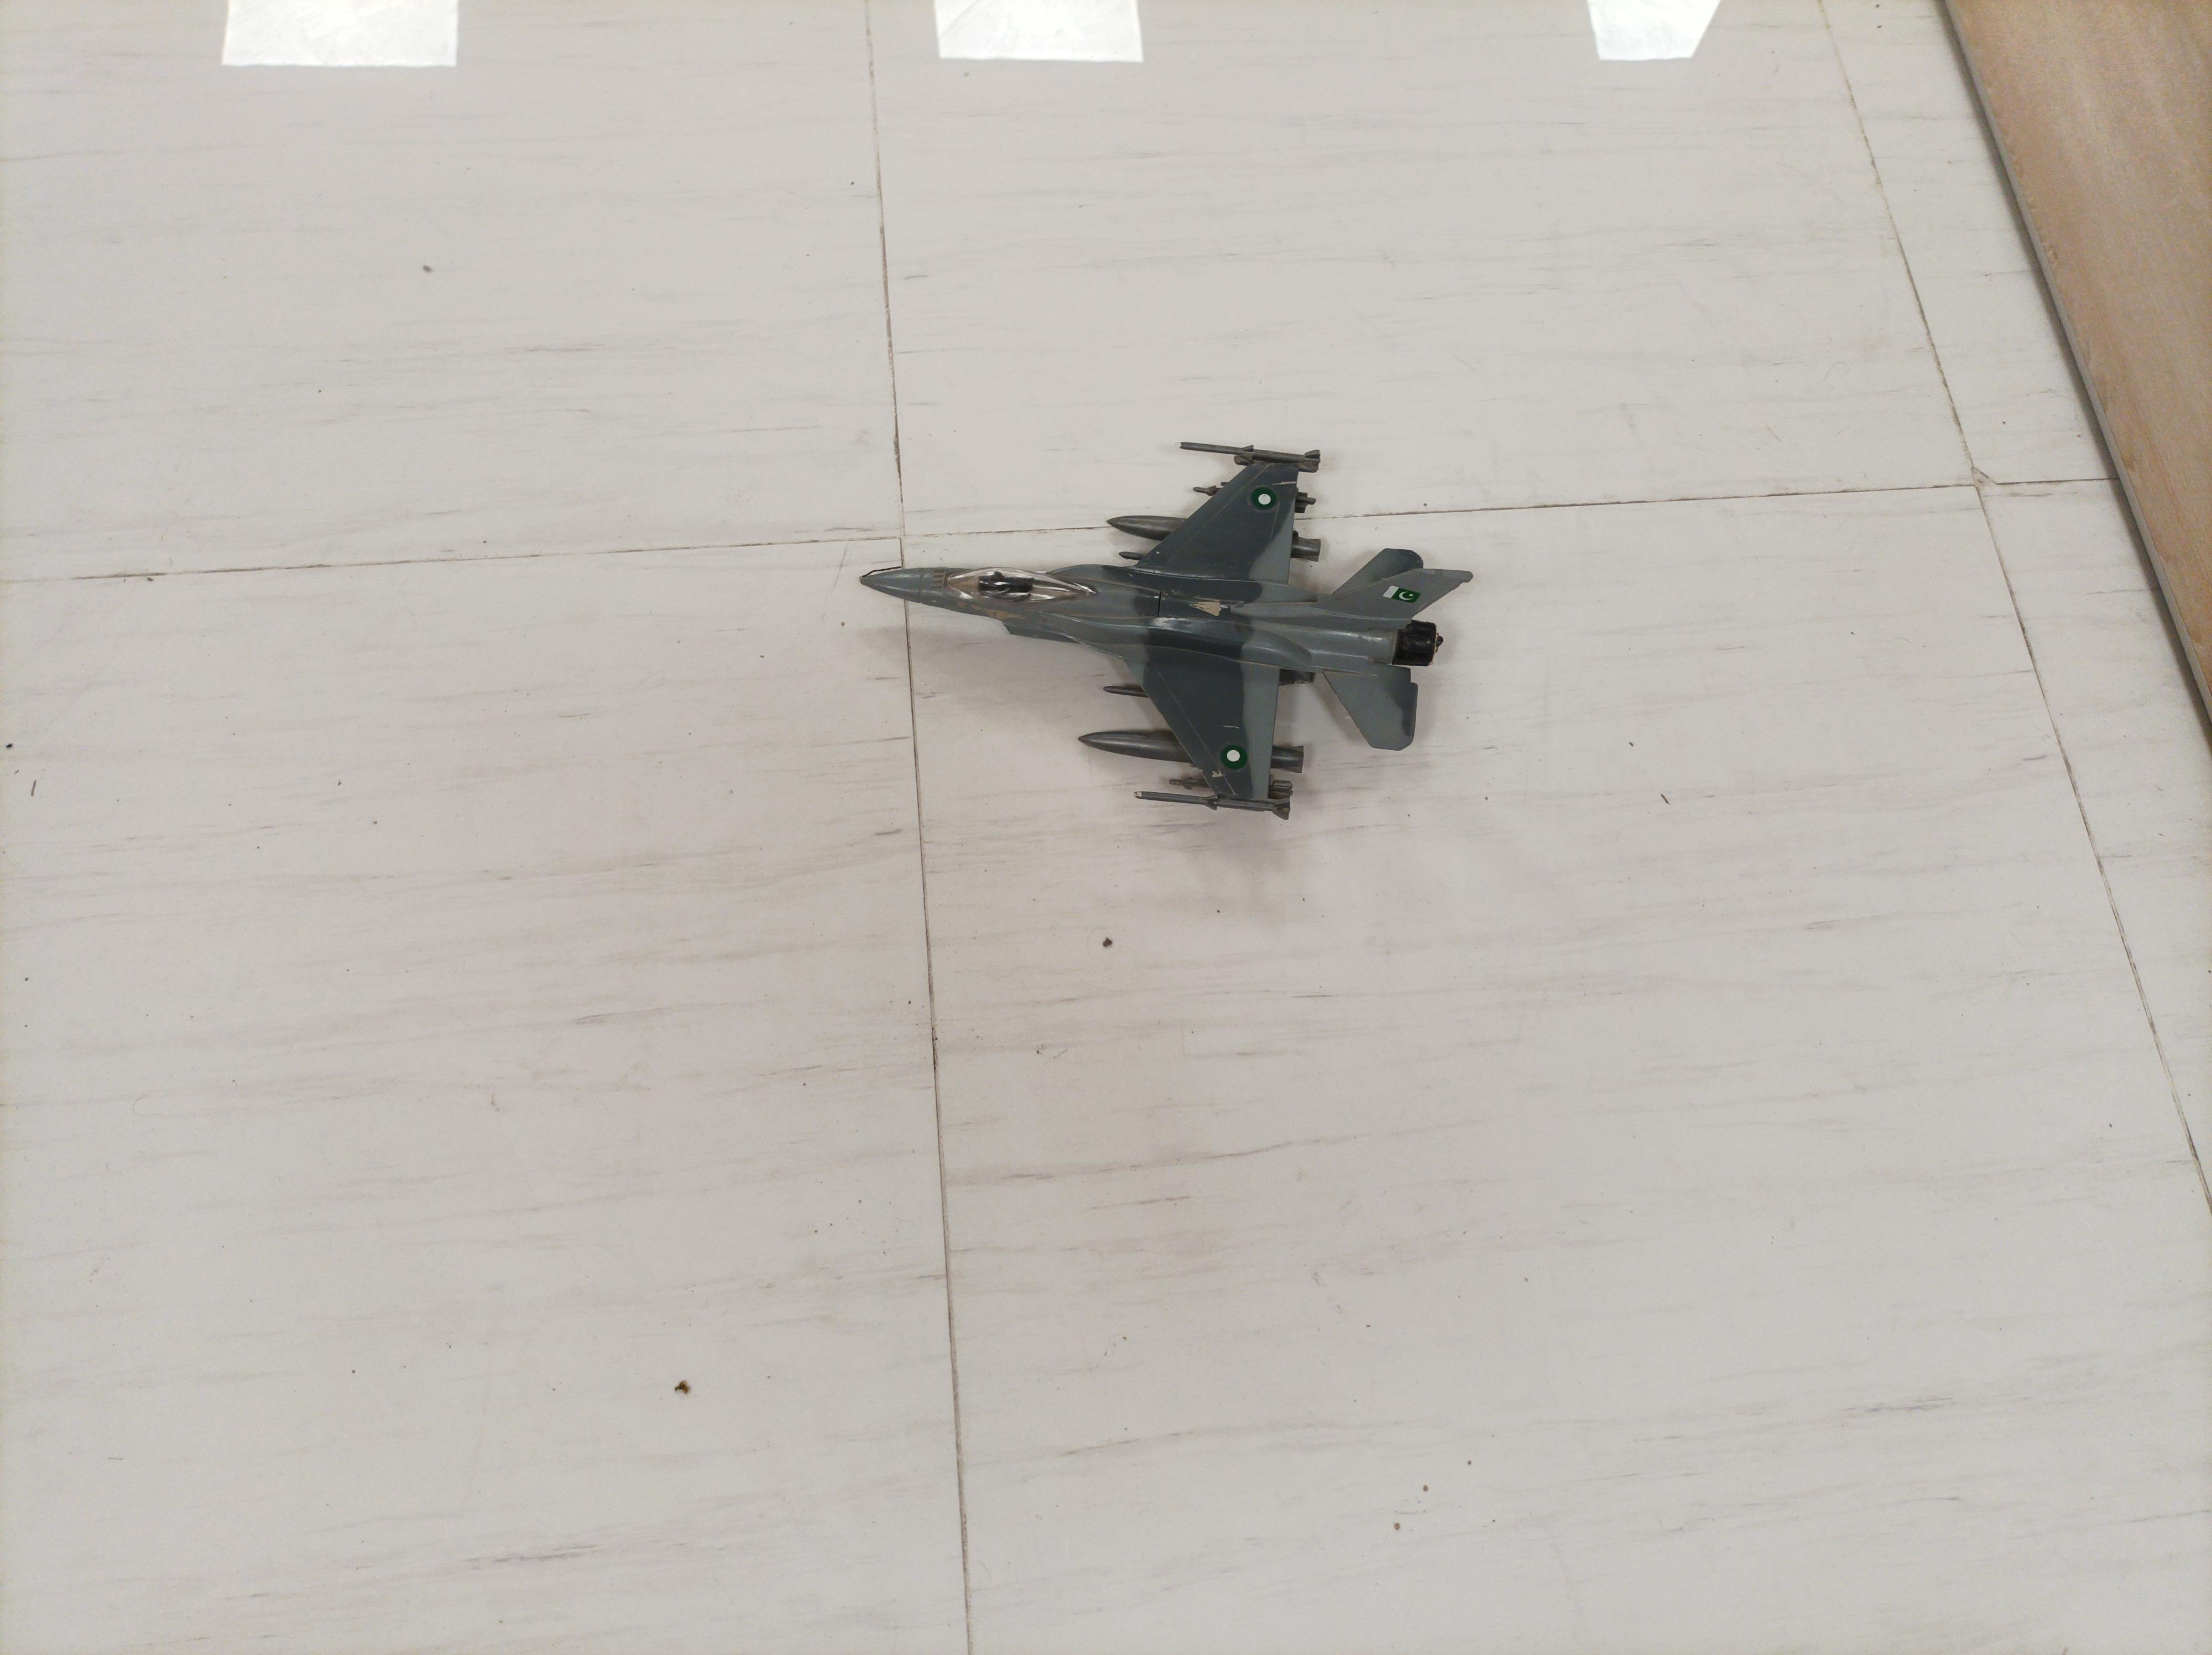Airplane: (850, 422, 1482, 855)
